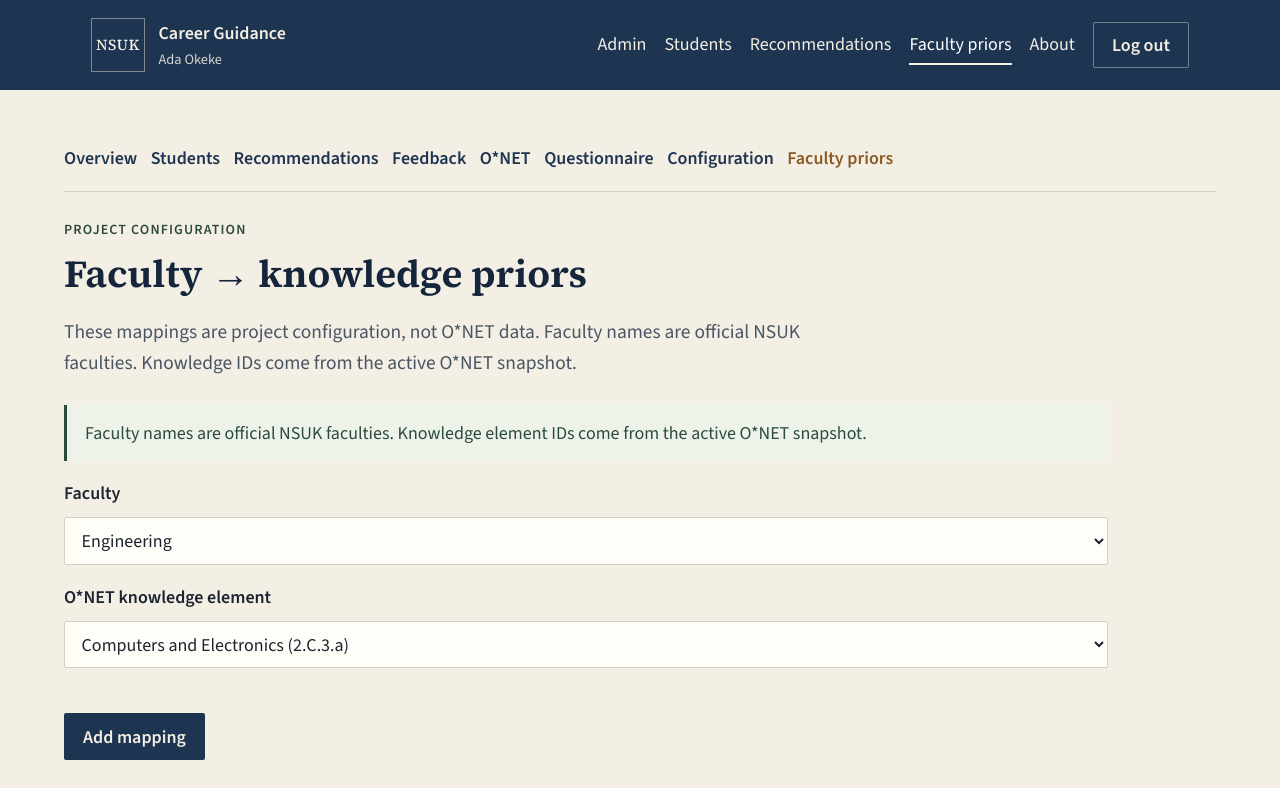
Test case: shows a faculty-prior API error
The image size is (1280, 788).
expect the heading "Faculty → knowledge priors" is shown: met, box [64,247,587,300]
Click the button "Add mapping": (134, 737) [64,713,205,760]
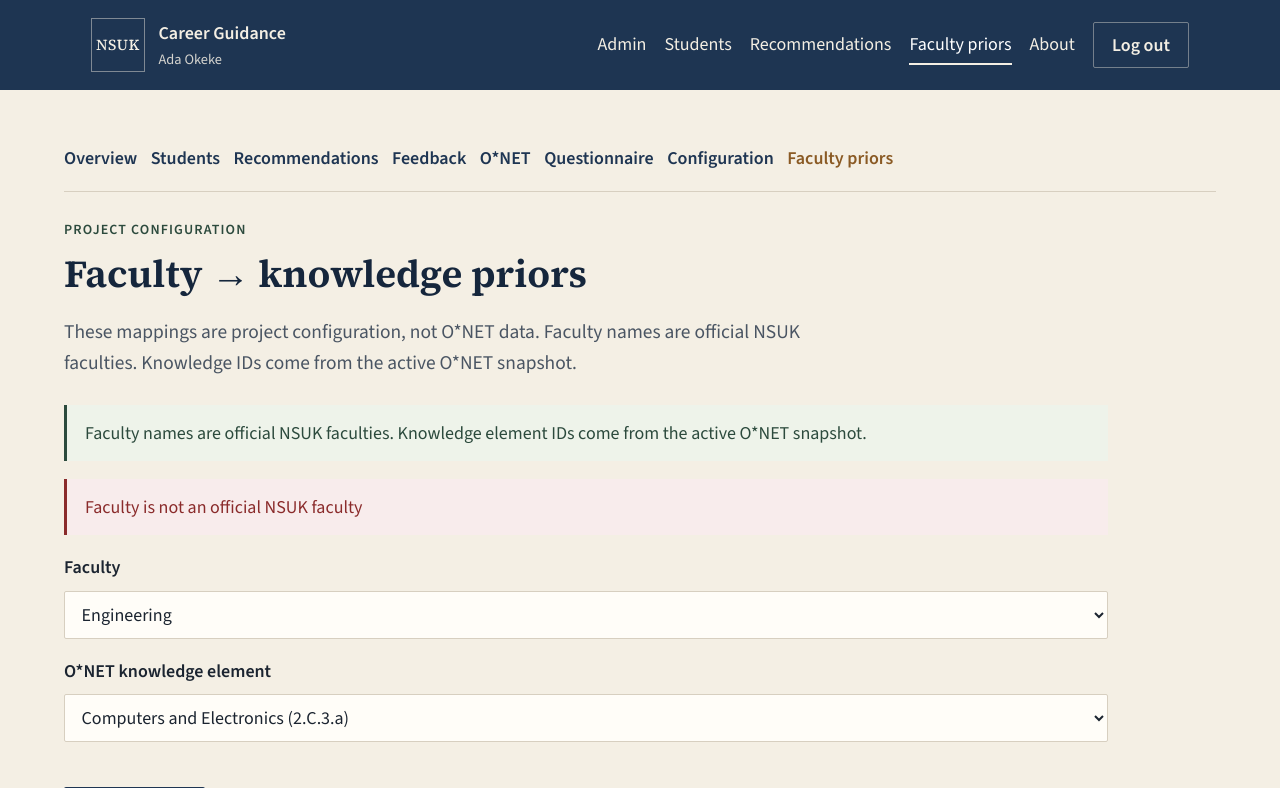
expect the message "Faculty is not an official NSUK faculty" is shown: met, box [64,479,1108,535]
